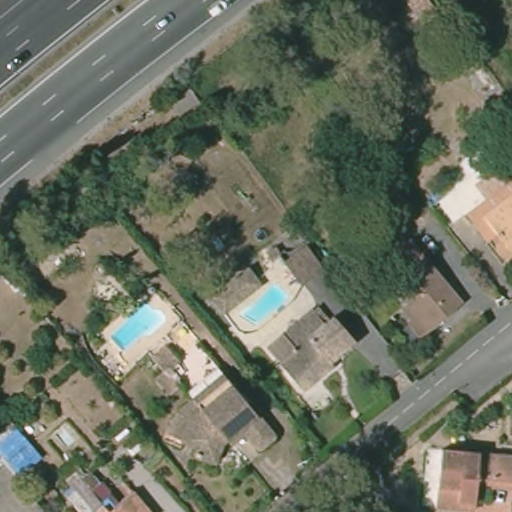pool: (109, 305, 165, 351), (236, 283, 292, 328)
